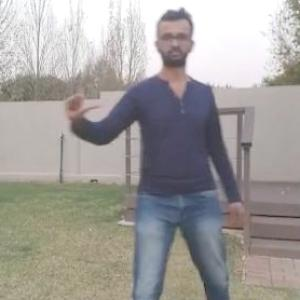land_hand: (57, 69, 100, 125)
